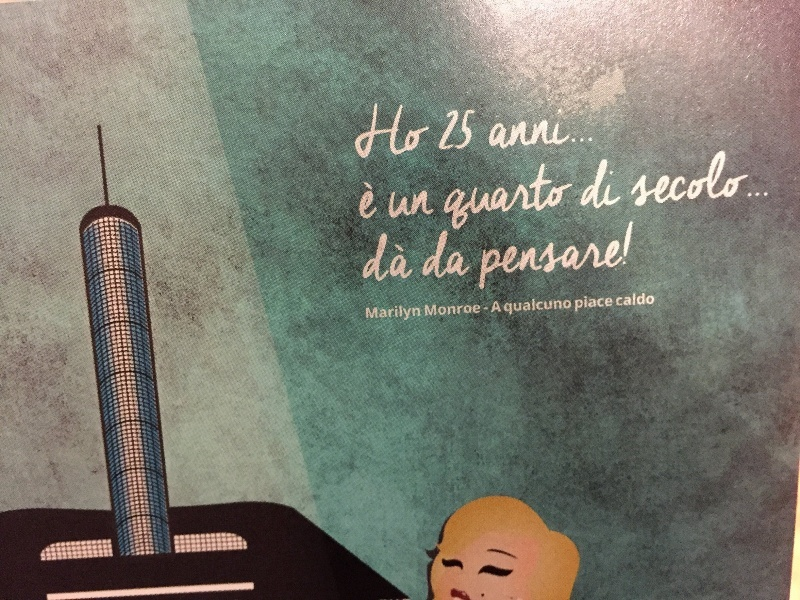text: (481, 216, 496, 296), (497, 216, 512, 296), (513, 216, 528, 296), (529, 216, 544, 296), (545, 216, 560, 296), (561, 216, 576, 296), (577, 216, 592, 296), (593, 216, 608, 296), (609, 216, 624, 296), (449, 160, 464, 232), (465, 160, 480, 232), (481, 160, 496, 232), (497, 160, 512, 232), (513, 160, 528, 232), (529, 160, 544, 232), (545, 160, 560, 232), (625, 216, 638, 296), (641, 142, 656, 211), (657, 142, 672, 211), (673, 142, 688, 211), (689, 142, 704, 211), (705, 142, 720, 211), (721, 142, 736, 211), (737, 142, 752, 211), (753, 142, 768, 211), (353, 99, 368, 165), (369, 99, 384, 165), (385, 99, 400, 165), (401, 99, 416, 165), (417, 99, 431, 165), (561, 160, 573, 232), (593, 156, 608, 210), (609, 156, 624, 210), (433, 229, 448, 282), (449, 229, 464, 282), (369, 231, 384, 283), (385, 231, 400, 283), (401, 231, 416, 283), (449, 106, 464, 153), (630, 142, 640, 211), (465, 106, 479, 153), (497, 107, 512, 149), (513, 107, 528, 149), (529, 107, 544, 149), (545, 107, 560, 149), (561, 107, 576, 149), (577, 107, 592, 149), (401, 183, 416, 223), (417, 183, 432, 223), (581, 156, 592, 210), (369, 179, 381, 223), (441, 160, 448, 232), (357, 179, 368, 223), (388, 183, 400, 223), (465, 229, 473, 282), (513, 295, 528, 317), (529, 295, 544, 317), (545, 295, 560, 317), (362, 231, 368, 283), (577, 294, 592, 313), (593, 294, 608, 313), (442, 106, 448, 153), (769, 142, 773, 211), (369, 304, 384, 321), (385, 304, 400, 321), (401, 304, 416, 321), (490, 107, 496, 149), (561, 295, 572, 317), (625, 293, 640, 308), (465, 303, 481, 317), (433, 303, 448, 317), (449, 303, 464, 317), (641, 293, 655, 308), (503, 295, 512, 317), (433, 183, 437, 223), (593, 107, 596, 149), (616, 293, 624, 308), (424, 303, 432, 317), (430, 229, 432, 282), (497, 300, 503, 314), (479, 216, 480, 296), (483, 305, 496, 311), (609, 294, 613, 313), (417, 304, 421, 321), (417, 231, 418, 283), (493, 300, 496, 314), (574, 294, 576, 313), (366, 304, 368, 321)
